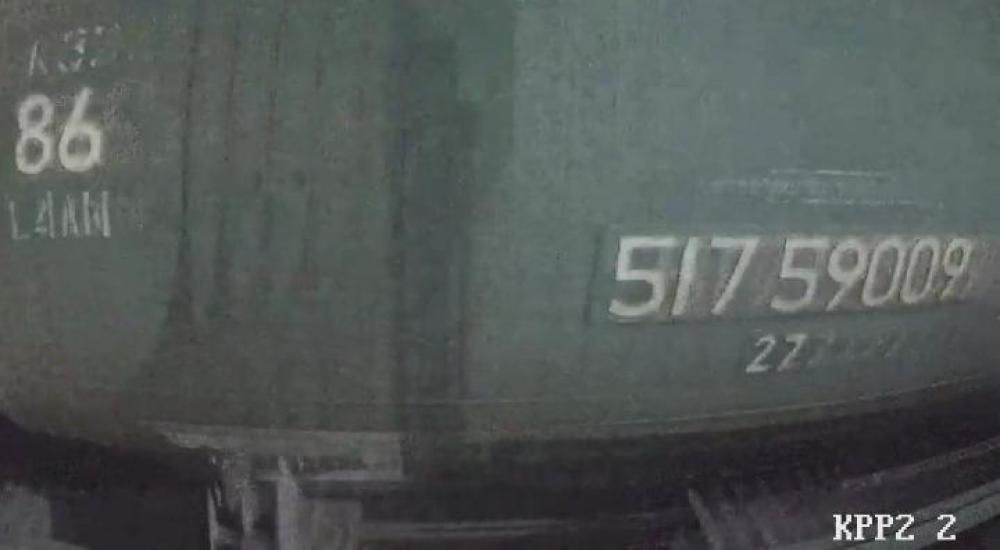Wagon-number: (601, 229, 978, 323)
